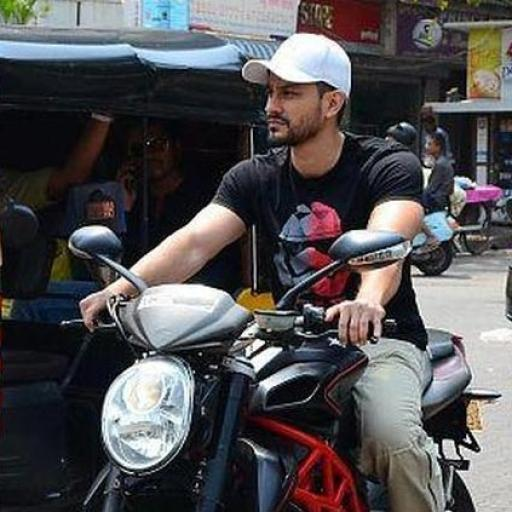no helmet: (81, 16, 502, 511)
